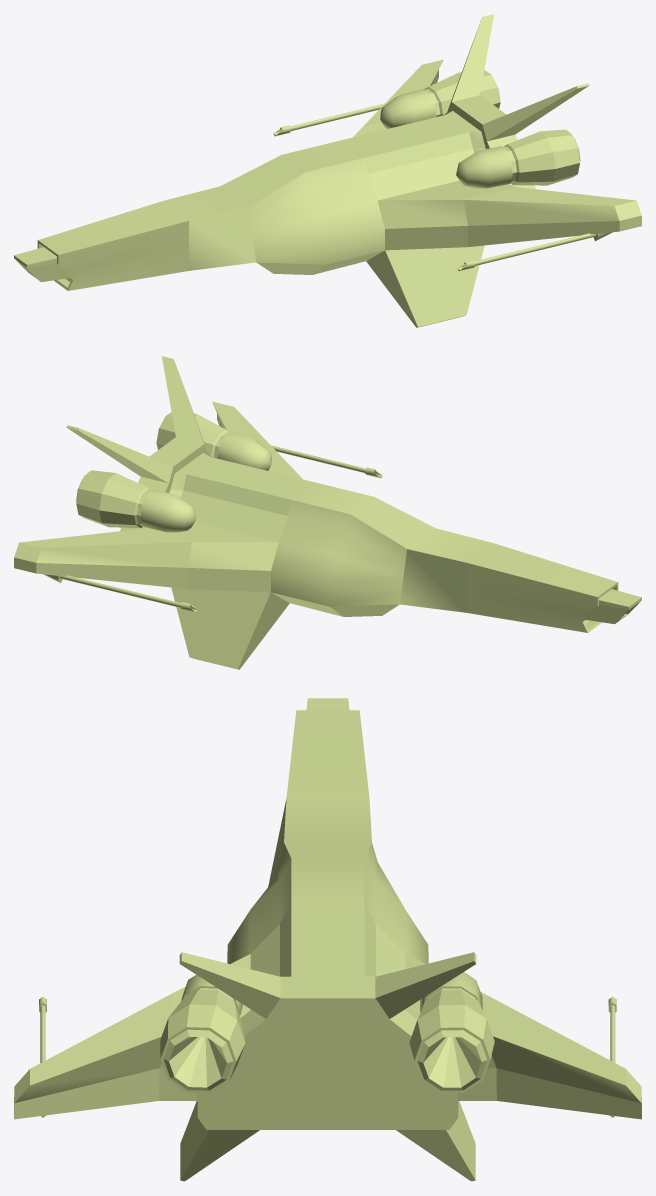
File: pew pew.obj
3 renders of one model, top to bottom at view 1: azimuth 30°, elevation 25°; view 2: azimuth 150°, elevation 25°; view 3: azimuth 270°, elevation 25°, orthographic. The views are drawn at different scales.
Parts seen in each view (by area): view 1: Cylinder002; view 2: Cylinder002; view 3: Cylinder002.
Boxes of the visible parts, x1,y1,x2,y2 form: Cylinder002: (14, 14, 641, 327); Cylinder002: (14, 356, 641, 669); Cylinder002: (14, 698, 641, 1181).
Size of the model in its own units: 175 by 65.22 by 118.
